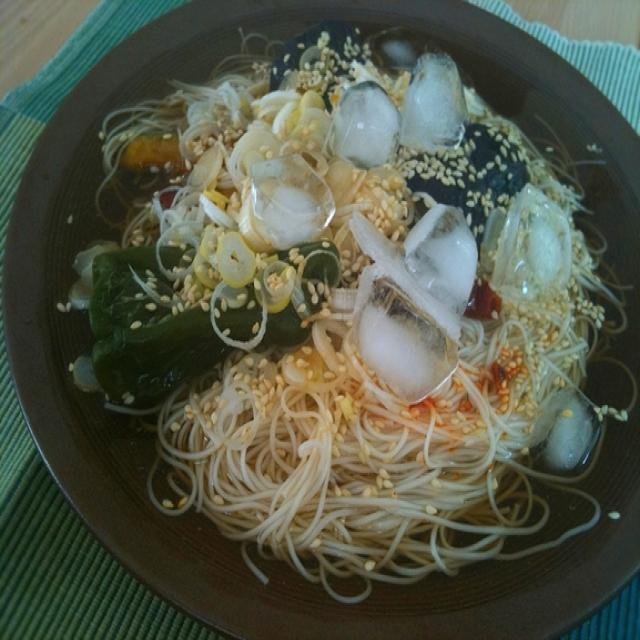面条主食: (13, 18, 619, 615)
